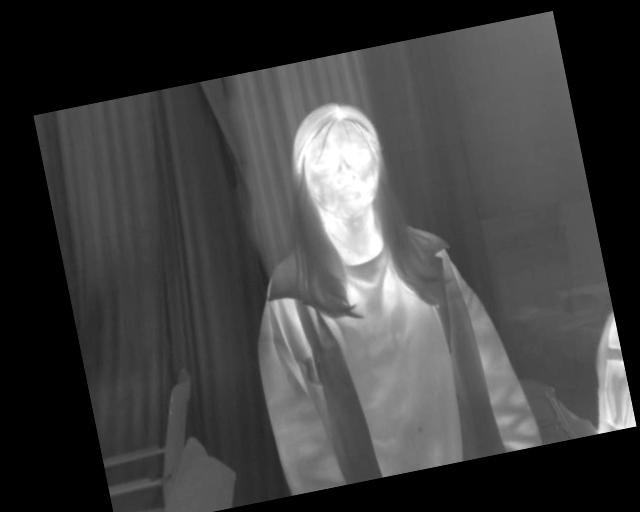face: (283, 95, 390, 229)
